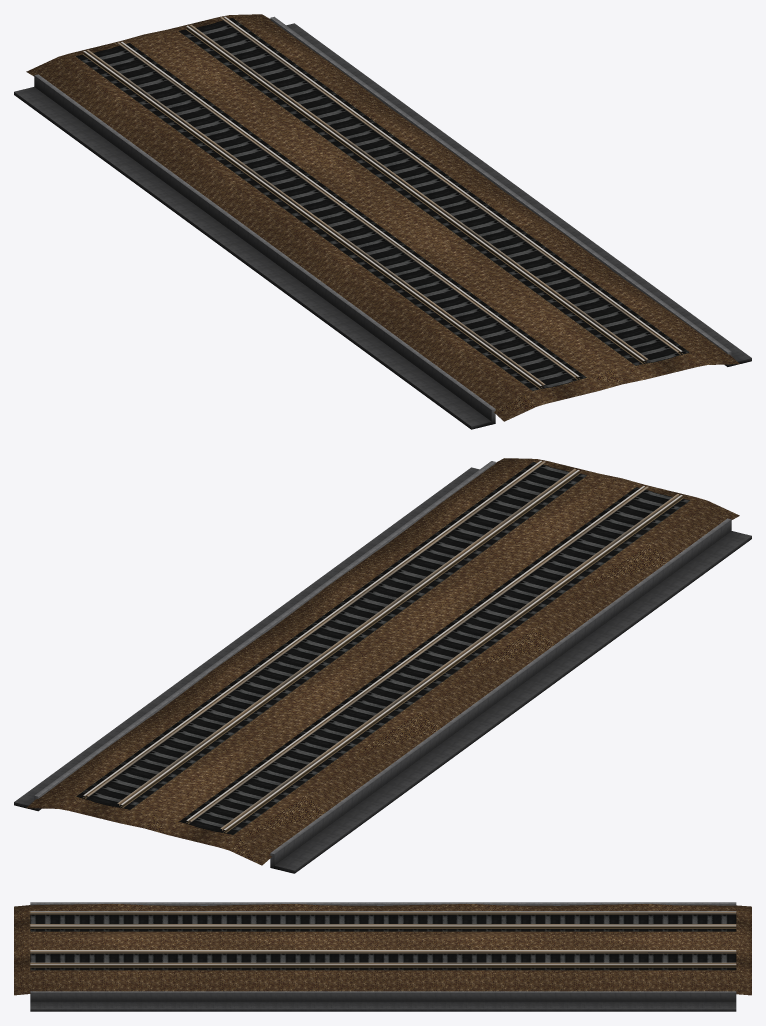
Rendered from HQ_2RAIL_100.glb.
3 views of the same model, one above another, from view 1: azimuth 30°, elevation 25°; view 2: azimuth 150°, elevation 25°; view 3: azimuth 270°, elevation 25° (orthographic). The views are drawn at different scales.
Visible parts, largest first — view 1: Jari_All, R000_RG_R, R000_RG_L; view 2: Jari_All, R000_RG_R, R000_RG_L; view 3: Jari_All, R000_RG_L, R000_RG_R.
Boxes of the visible parts, x1,y1,x2,y2 form: Jari_All: (14,14,751,429); R000_RG_R: (86,24,648,386); R000_RG_L: (117,17,678,377); Jari_All: (14,458,751,873); R000_RG_R: (117,468,679,830); R000_RG_L: (86,461,648,822); Jari_All: (14,902,751,1011); R000_RG_L: (30,924,736,964); R000_RG_R: (30,912,736,952).
Bounding box in the file's own units: 35.42 × 3.35 × 105.
7 materials, 6 textured.
